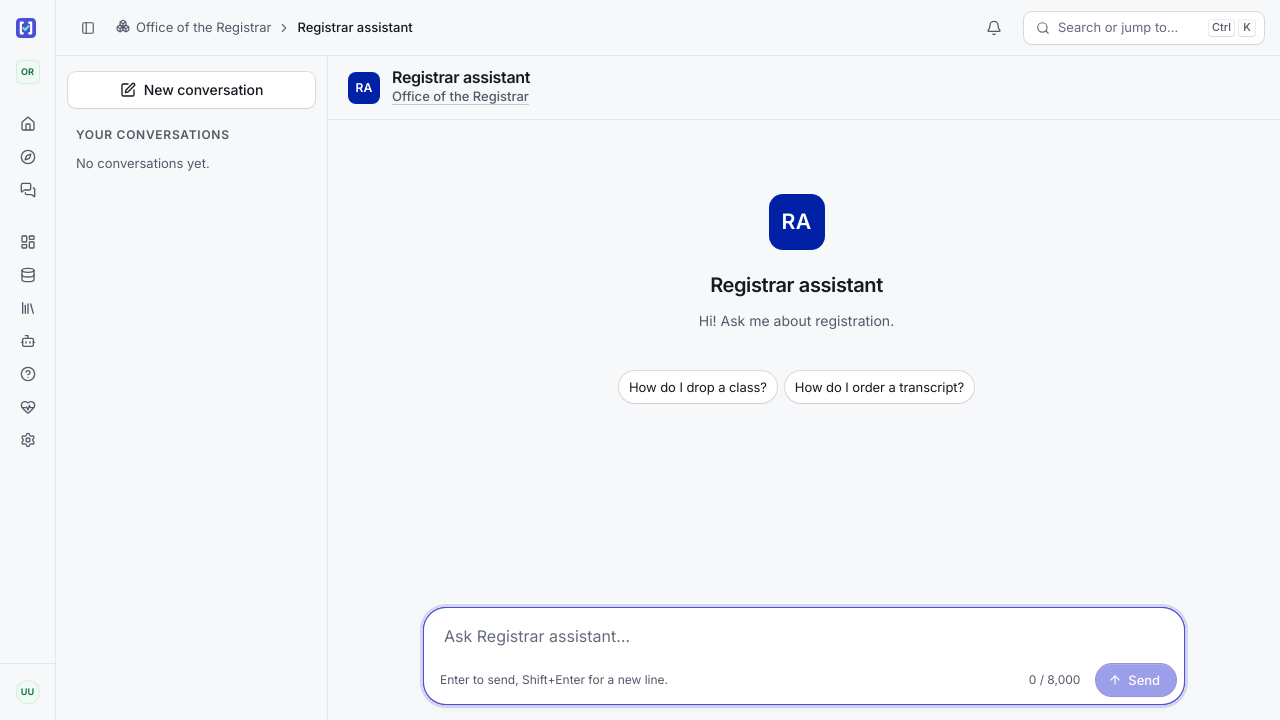
Test: chat page › Stop aborts the request, keeps the partial answer and returns focus to the composer
In the text box named "Message Registrar assistant": point(804, 638) [432, 616, 1176, 660], type "Long question"
Then press Enter
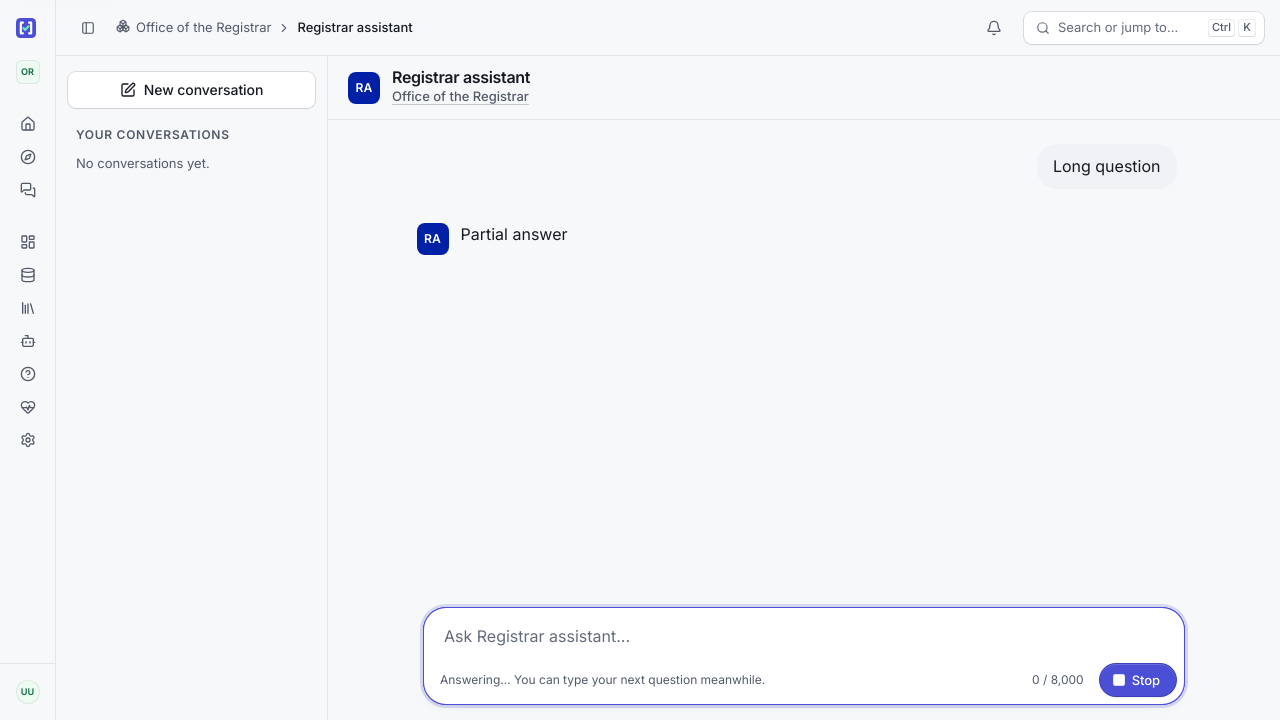
Expected: the text "Partial answer" is shown, [460, 224, 568, 244]
Click the button with aria-label "Stop generating": point(1138, 680) [1100, 664, 1176, 696]
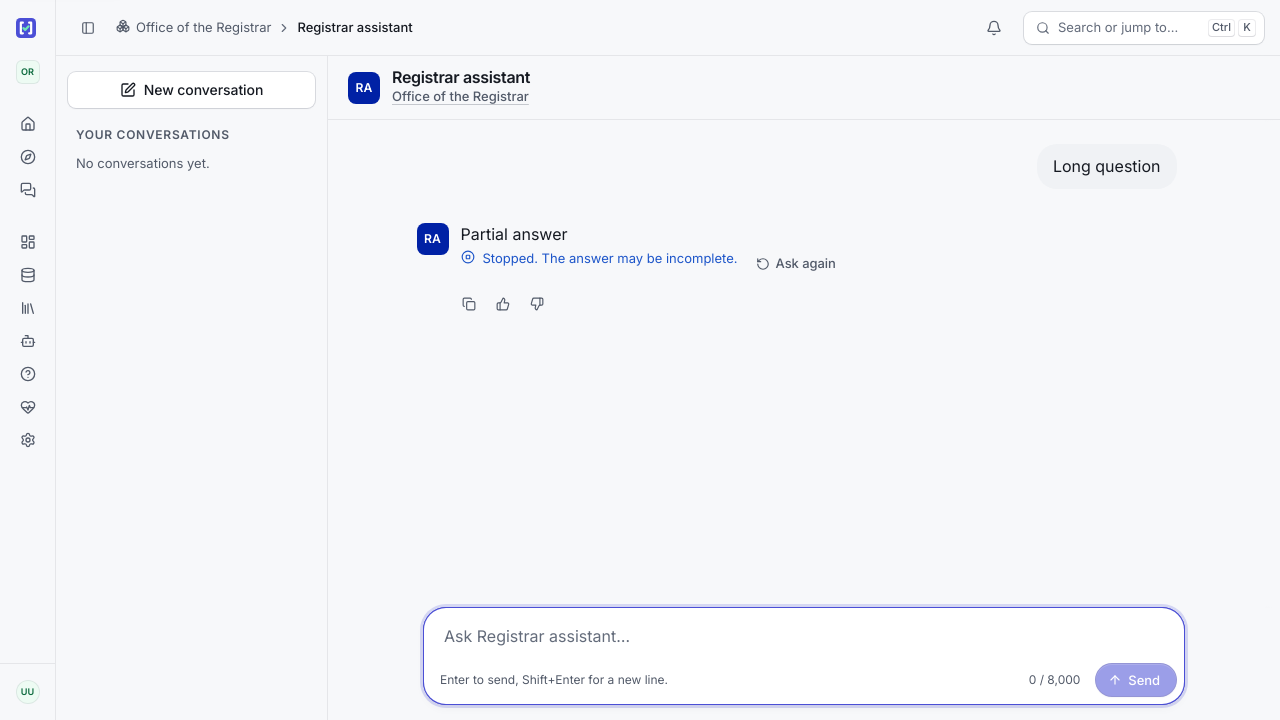
Expected: the text "Partial answer" is shown, [460, 224, 568, 244]
Expected: the list item "Stopped. The answer may be incomplete." is shown, [482, 250, 738, 266]
Expected: the button with aria-label "Send message" is shown, [1096, 664, 1176, 696]
